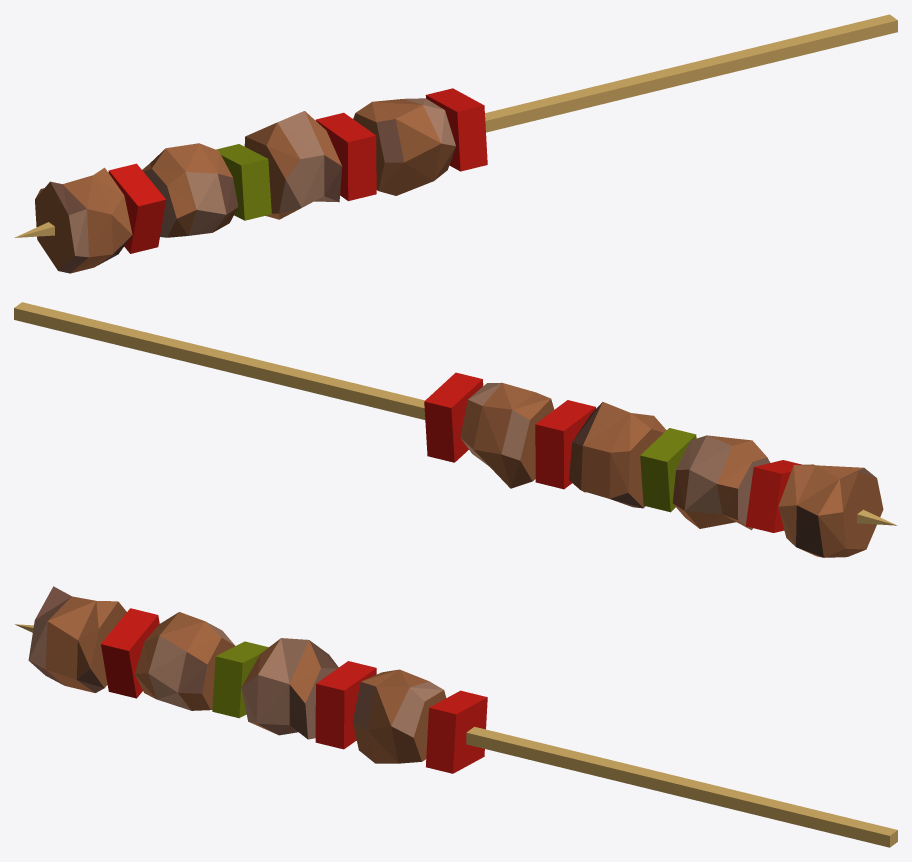
Rendered from SM_Cook_SkewerPepper_Grilled_01.fbx.
The picture shows the model from 3 angles, top to bottom: view 1: azimuth 30°, elevation 25°; view 2: azimuth 150°, elevation 25°; view 3: azimuth 330°, elevation 25°; orthographic projection.
Visible parts, largest first — view 1: SM_Cook_SkewerPepper_Grilled_01; view 2: SM_Cook_SkewerPepper_Grilled_01; view 3: SM_Cook_SkewerPepper_Grilled_01.
Part boxes in pixels (bbox=[...]): SM_Cook_SkewerPepper_Grilled_01: bbox=[14, 14, 897, 273]; SM_Cook_SkewerPepper_Grilled_01: bbox=[14, 302, 897, 557]; SM_Cook_SkewerPepper_Grilled_01: bbox=[15, 586, 897, 847].
Size of the model in its own units: 0.25 by 0.0282 by 0.0255.
1 material, 1 textured.
